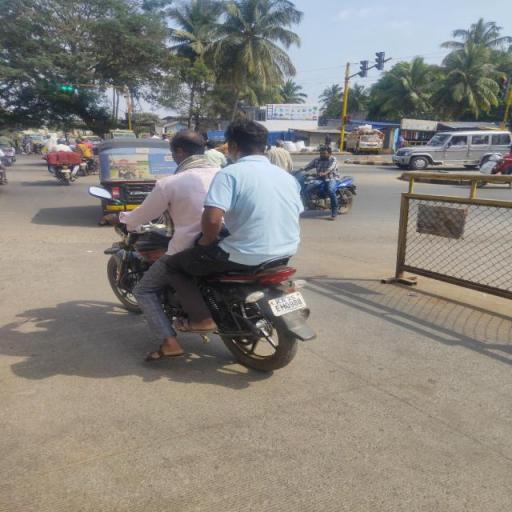bike: (91, 116, 328, 372)
numberplate: (264, 286, 310, 319)
withouthelmet: (227, 122, 265, 159), (170, 131, 206, 162)
